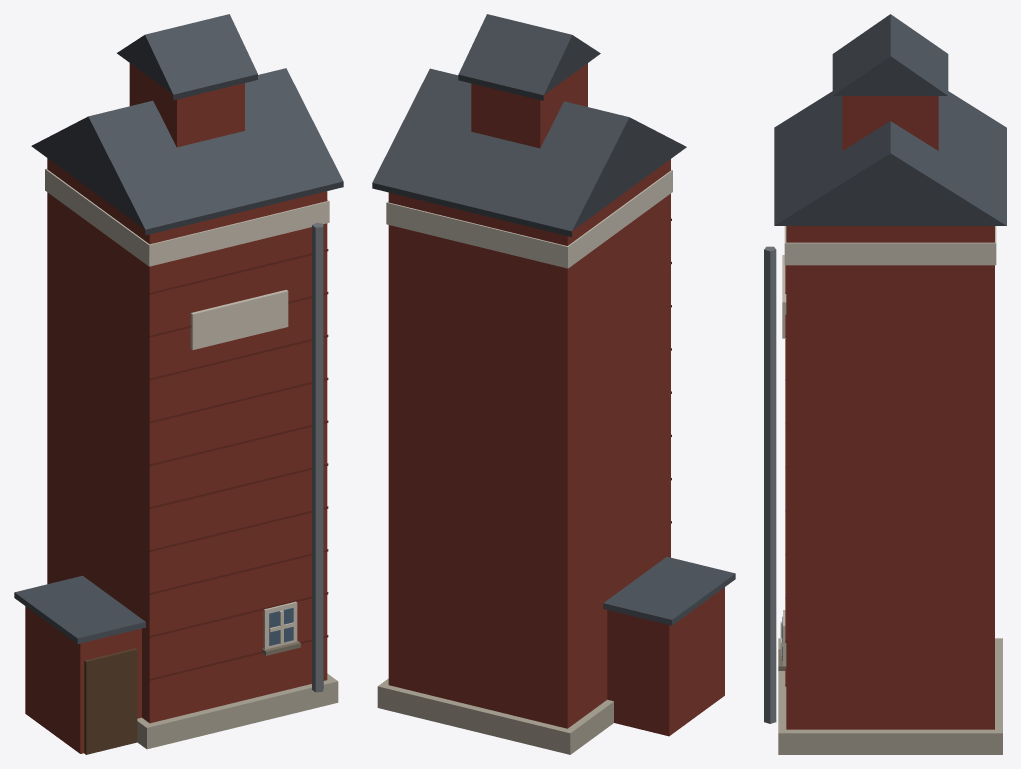
Rendered from grain_tower.glb.
3 renders of one model, left to right at view 1: azimuth 30°, elevation 25°; view 2: azimuth 150°, elevation 25°; view 3: azimuth 270°, elevation 25°, orthographic.
Visible parts, largest first — view 1: grain_tower; view 2: grain_tower; view 3: grain_tower.
Boxes of the visible parts, x1,y1,x2,y2 form: grain_tower: [14, 14, 343, 754]; grain_tower: [372, 14, 735, 754]; grain_tower: [764, 14, 1006, 754].
Size of the model in its own units: 3.75 by 9.25 by 3.03.
